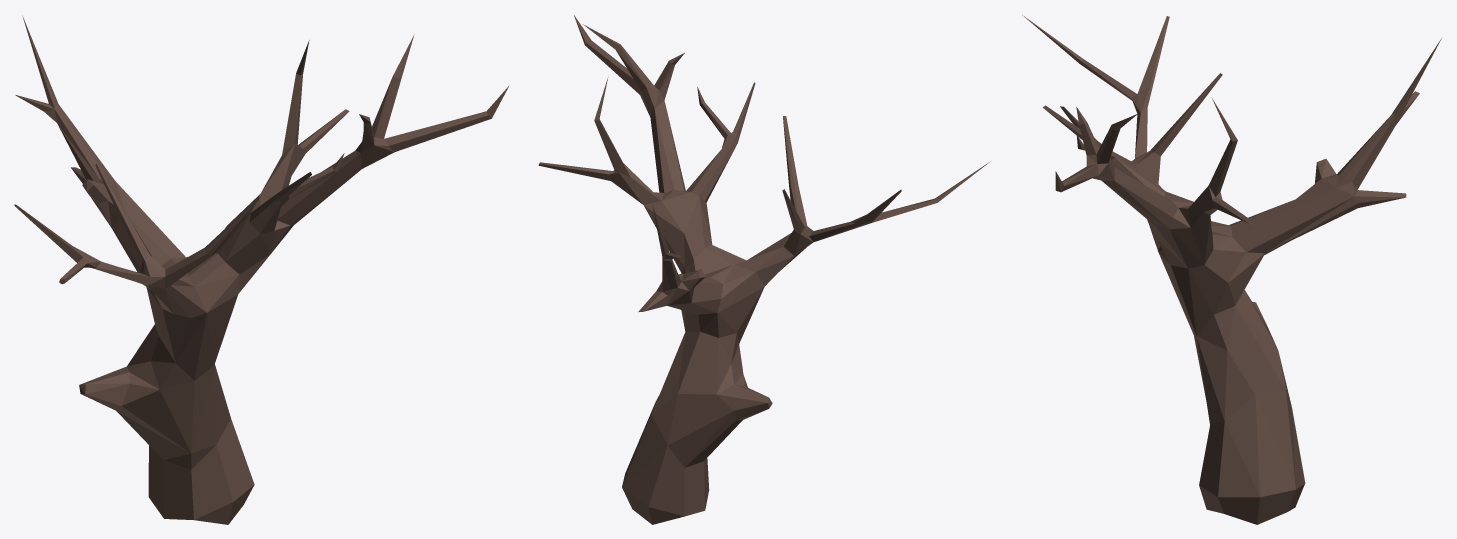
File: dead_tree.glb
The picture shows the model from 3 angles, left to right: view 1: azimuth 30°, elevation 25°; view 2: azimuth 150°, elevation 25°; view 3: azimuth 270°, elevation 25°; orthographic projection. The views are drawn at different scales.
Parts seen in each view (by area): view 1: dead-tree-2; view 2: dead-tree-2; view 3: dead-tree-2.
Part boxes in pixels (bbox=[...]): dead-tree-2: bbox=[14, 15, 508, 524]; dead-tree-2: bbox=[538, 15, 990, 524]; dead-tree-2: bbox=[1022, 15, 1441, 524].
Size of the model in its own units: 1500 by 1500 by 1200.
